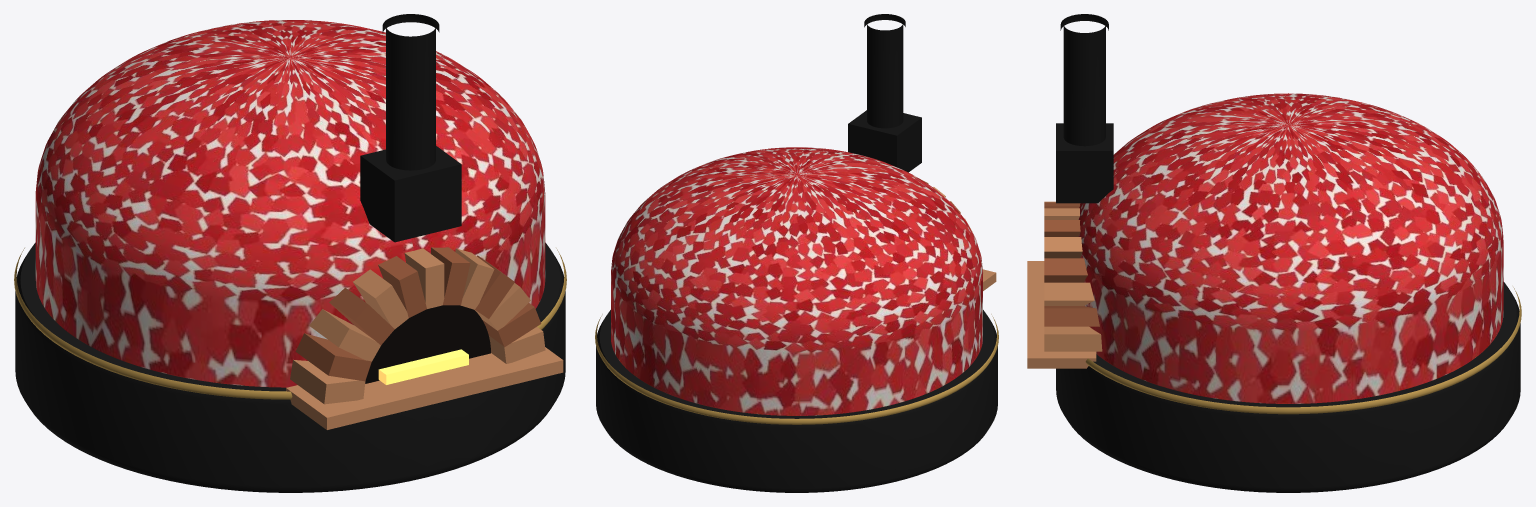
File: horno-rojo.glb
3 views of the same model, side by side, from view 1: azimuth 30°, elevation 25°; view 2: azimuth 150°, elevation 25°; view 3: azimuth 270°, elevation 25° (orthographic). The views are drawn at different scales.
Parts seen in each view (by area): view 1: cupula, base, arco, chimenea, arco-oscuro, boca, filete, fuego; view 2: cupula, base, chimenea, filete; view 3: cupula, base, chimenea, arco, filete, arco-oscuro.
Part boxes in pixels (x1,y1,x2,y2): cupula: (35, 20, 545, 387); base: (15, 242, 565, 492); arco: (286, 248, 563, 429); chimenea: (360, 14, 461, 242); arco-oscuro: (295, 247, 541, 381); boca: (365, 305, 490, 383); filete: (14, 248, 566, 399); fuego: (378, 349, 468, 384); cupula: (611, 147, 982, 415); base: (596, 310, 997, 492); chimenea: (848, 14, 921, 172); filete: (595, 314, 998, 424); cupula: (1078, 93, 1503, 403); base: (1056, 282, 1520, 492); chimenea: (1056, 14, 1113, 203); arco: (1027, 201, 1102, 368); filete: (1085, 287, 1521, 414); arco-oscuro: (1044, 202, 1099, 326).
Size of the model in its own units: 2.43 by 2.14 by 2.58.
Materials: 8 (1 with a texture image).
